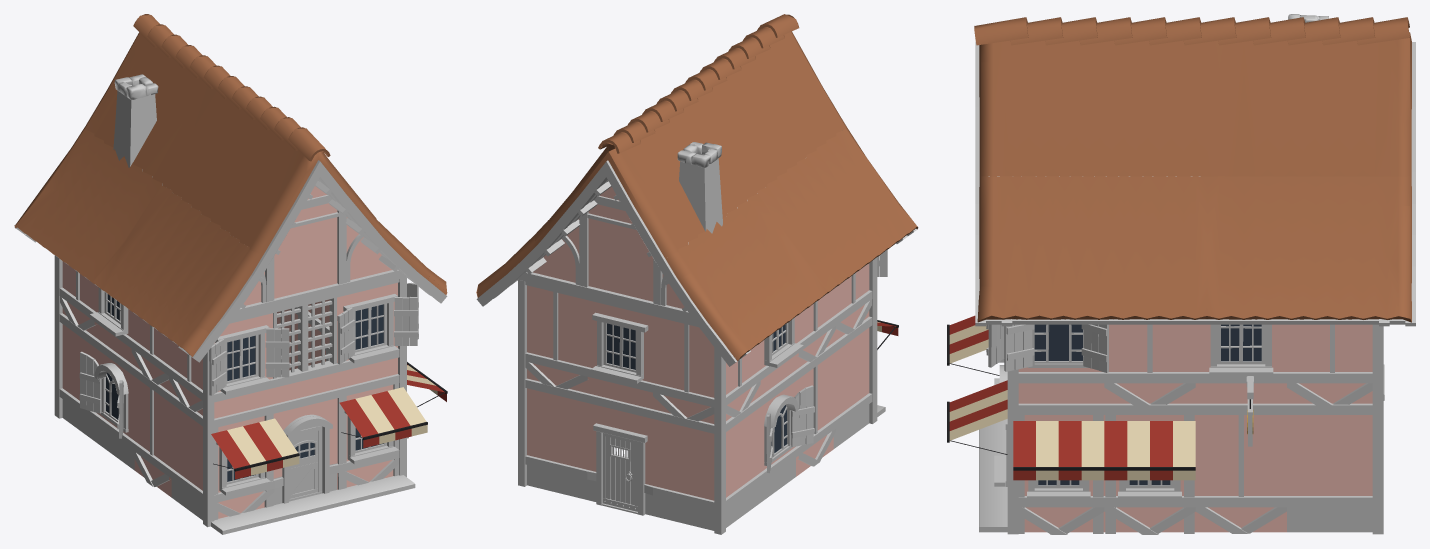
The model's file is corner_shop.gltf.
3 views of the same model, side by side, from view 1: azimuth 30°, elevation 25°; view 2: azimuth 150°, elevation 25°; view 3: azimuth 270°, elevation 25° (orthographic). The views are drawn at different scales.
Visible parts, largest first — view 1: Roof_RoundTiles_6x8.056, Roof_Front_Brick6.057, Wall_Plaster_WoodGrid+upper.032, Wall_Plaster_Straight.017, Wall_Plaster_Straight_Base.018, Wall_Plaster_Window_Wide_Flat2.006, Prop_Chimney.059, Wall_Plaster_Straight_Base.013, Wall_Plaster_Window_Wide_Flat2.001, Window_Wide_Flat1.034, Window_Wide_Flat1.030, Wall_Plaster_Door_Round.003 (+27 smaller); view 2: Roof_RoundTiles_6x8.056, Roof_Front_Brick6.058, Wall_Plaster_Straight_Base.008, Wall_Plaster_Straight_Base.012, Wall_Plaster_Straight+upper.036, Wall_Plaster_Straight+upper.039, Wall_Plaster_Straight_Base.018, Wall_Plaster_Window_Wide_Flat+upper.037, Wall_Plaster_Straight_Base.013, Wall_Plaster_Door_Flat.009, Wall_Plaster_Straight.017, Prop_Chimney.059 (+16 smaller); view 3: Roof_RoundTiles_6x8.056, Wall_Plaster_Straight.023, Wall_Plaster_Straight_Base.024, Wall_Plaster_Straight+upper.048, Wall_Plaster_Straight+upper.051, Awning.070, Wall_Plaster_Window_Wide_Flat2.021, Awning.071, Wall_Plaster_Window_Wide_Flat2.019, Wall_Plaster_Window_Wide_Flat+upper.049, Window_Wide_Flat1.050, Wall_Plaster_Window_Wide_Round+upper.045 (+16 smaller).
Boxes of the visible parts, box(x1,y1,x2,y2) form: Roof_RoundTiles_6x8.056: box(14, 14, 447, 362); Roof_Front_Brick6.057: box(232, 181, 406, 319); Wall_Plaster_WoodGrid+upper.032: box(273, 294, 338, 404); Wall_Plaster_Straight.017: box(131, 366, 171, 497); Wall_Plaster_Straight_Base.018: box(168, 393, 202, 520); Wall_Plaster_Window_Wide_Flat2.006: box(337, 374, 399, 489); Prop_Chimney.059: box(113, 74, 158, 167); Wall_Plaster_Straight_Base.013: box(59, 313, 97, 442); Wall_Plaster_Window_Wide_Flat2.001: box(214, 404, 274, 520); Window_Wide_Flat1.034: box(343, 294, 399, 363); Window_Wide_Flat1.030: box(215, 325, 270, 394); Wall_Plaster_Door_Round.003: box(273, 389, 338, 505); Roof_RoundTiles_6x8.056: box(476, 14, 918, 366); Roof_Front_Brick6.058: box(517, 181, 695, 323); Wall_Plaster_Straight_Base.008: box(525, 378, 588, 500); Wall_Plaster_Straight_Base.012: box(653, 409, 714, 530); Wall_Plaster_Straight+upper.036: box(525, 282, 588, 393); Wall_Plaster_Straight+upper.039: box(653, 313, 714, 423); Wall_Plaster_Straight_Base.018: box(833, 316, 872, 448); Wall_Plaster_Window_Wide_Flat+upper.037: box(587, 297, 654, 409); Wall_Plaster_Straight_Base.013: box(726, 398, 760, 527); Wall_Plaster_Door_Flat.009: box(587, 393, 654, 516); Wall_Plaster_Straight.017: box(796, 342, 836, 476); Prop_Chimney.059: box(677, 142, 722, 233); Roof_RoundTiles_6x8.056: box(974, 17, 1415, 326); Wall_Plaster_Straight.023: box(1195, 403, 1286, 533); Wall_Plaster_Straight_Base.024: box(1287, 403, 1372, 532); Wall_Plaster_Straight+upper.048: box(1104, 324, 1195, 405); Wall_Plaster_Straight+upper.051: box(1287, 324, 1372, 405); Awning.070: box(1013, 421, 1172, 480); Wall_Plaster_Window_Wide_Flat2.021: box(1104, 403, 1195, 534); Awning.071: box(1036, 421, 1195, 480); Wall_Plaster_Window_Wide_Flat2.019: box(1018, 403, 1104, 534); Wall_Plaster_Window_Wide_Flat+upper.049: box(1195, 324, 1286, 403); Window_Wide_Flat1.050: box(1209, 324, 1273, 376); Wall_Plaster_Window_Wide_Round+upper.045: box(1018, 367, 1104, 403).
Bounding box in the file's own units: 8.57 × 11.03 × 10.28.
